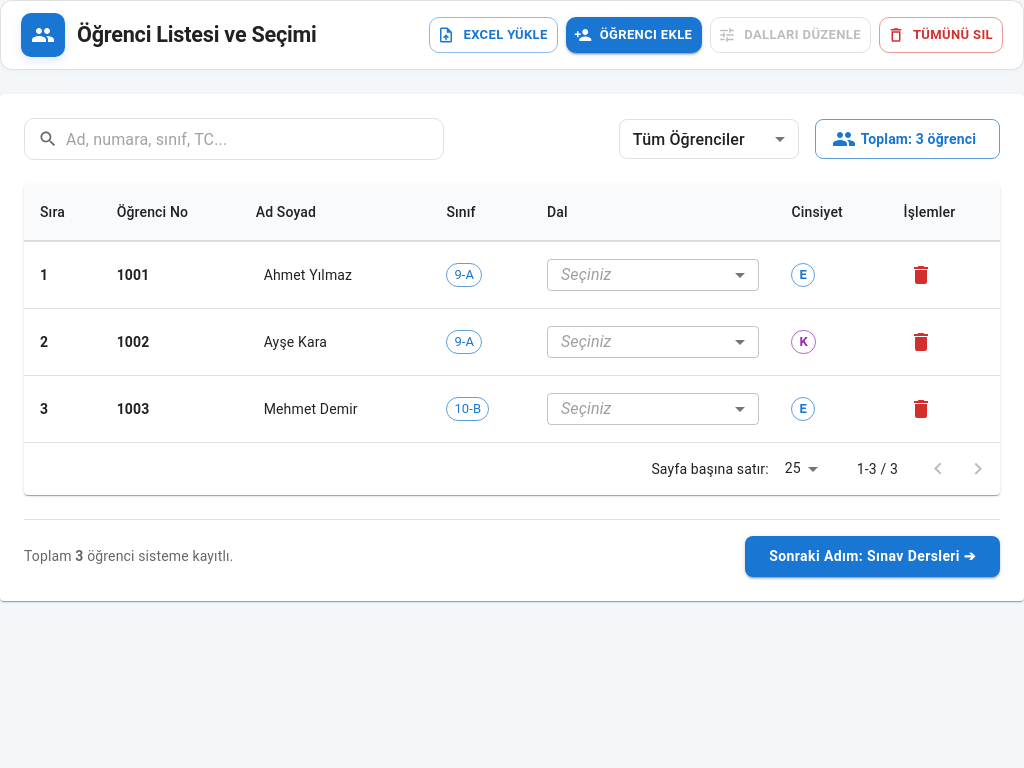
OgrenciListesi Component › should show delete all confirmation dialog
This screenshot has width=1024, height=768.
Click the button "Tümünü Sil". click: (941, 35)
box: x1=879 y1=17 x2=1003 y2=53
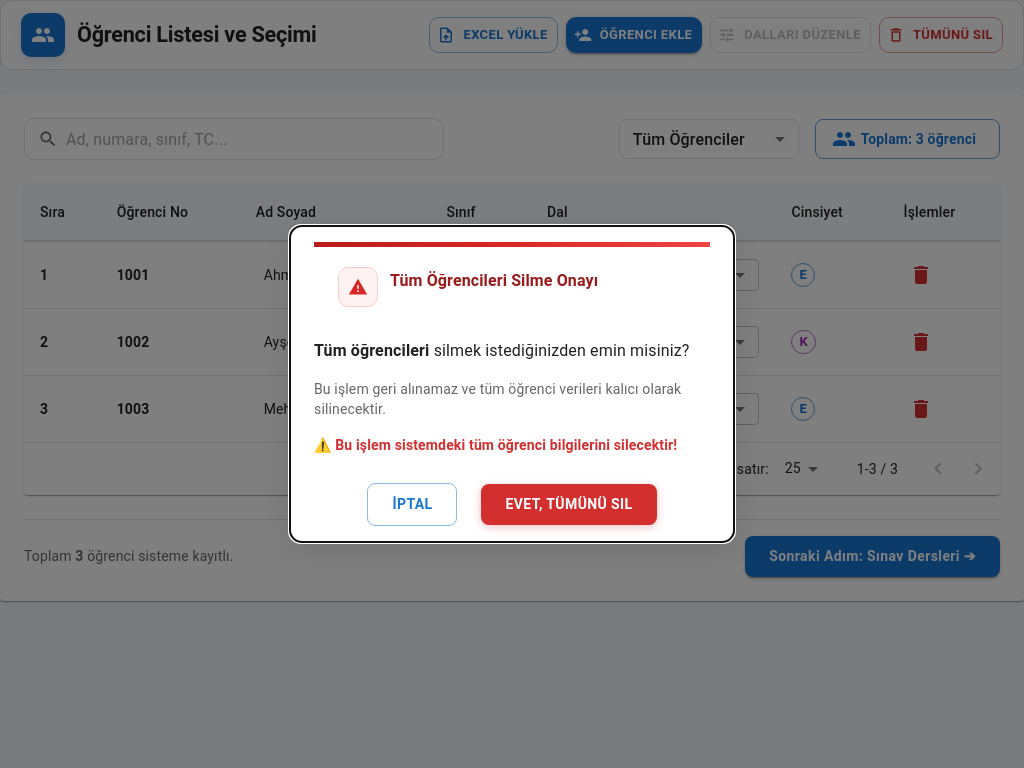
Expected: the heading "Tüm Öğrencileri Silme Onayı" is shown, x1=390 y1=271 x2=598 y2=290
